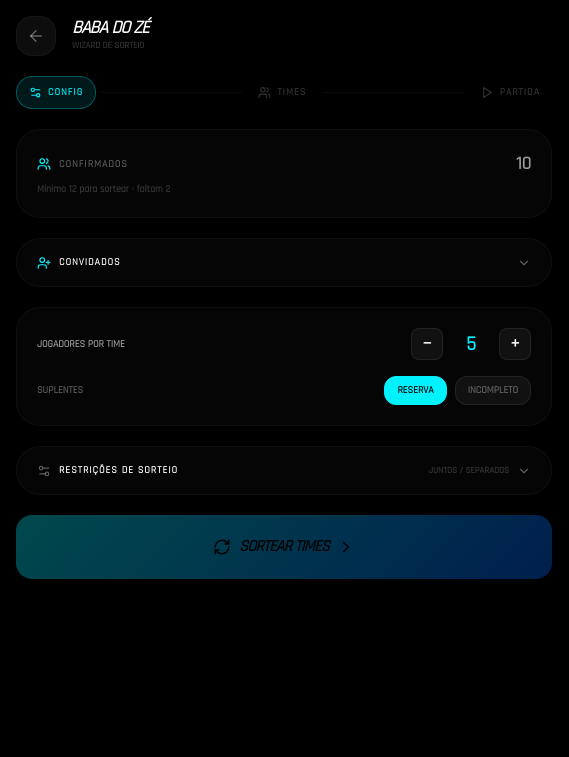
Test: DrawPage — StepConfig › com Incompleto, 10 confirmados bastam para 2 times de 5 (mínimo 2 × playersPerTeam)
Expected: the button "Sortear Times" is disabled, [16,515,552,579]
Click the button "Incompleto" at coordinates (493, 390), box [455,376,531,405]
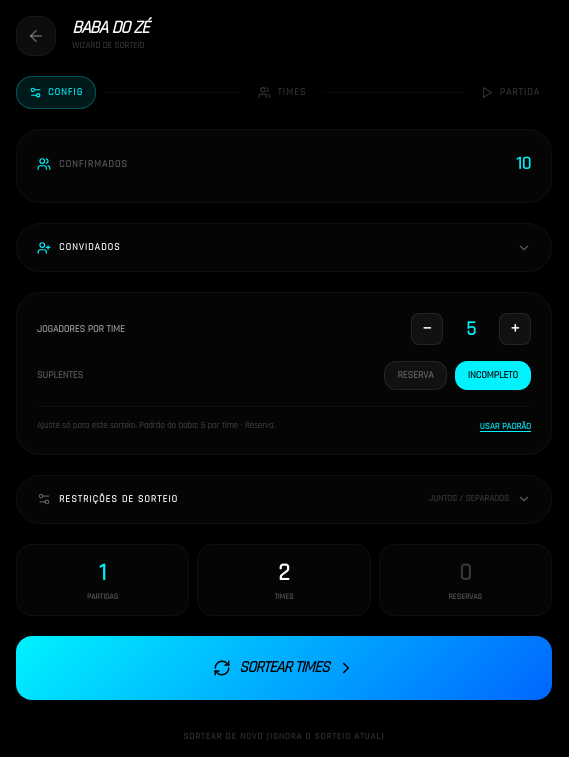
Now the button "Sortear Times" is enabled, box [16,636,552,700]
